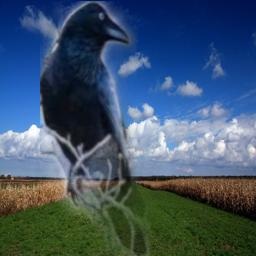Crow: (40, 1, 150, 256)
